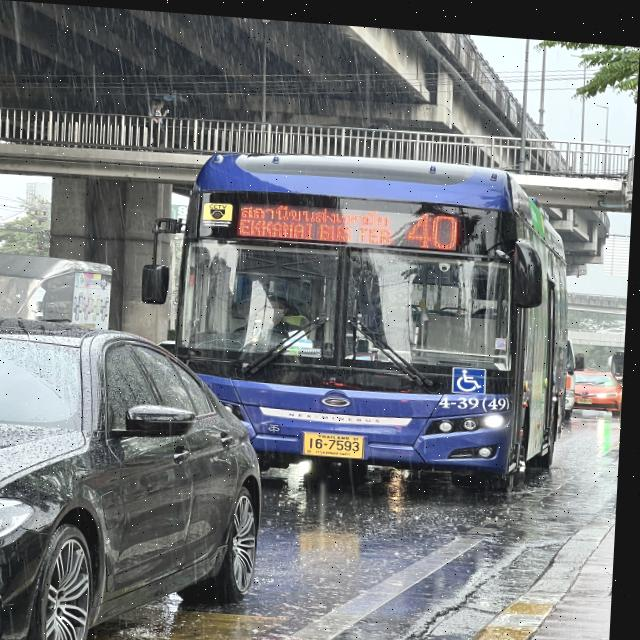Bus-Line-Number: (408, 201, 466, 247)
Destination-Sign-Normal: (235, 195, 399, 241)
TSB-Bus: (172, 140, 587, 482)
